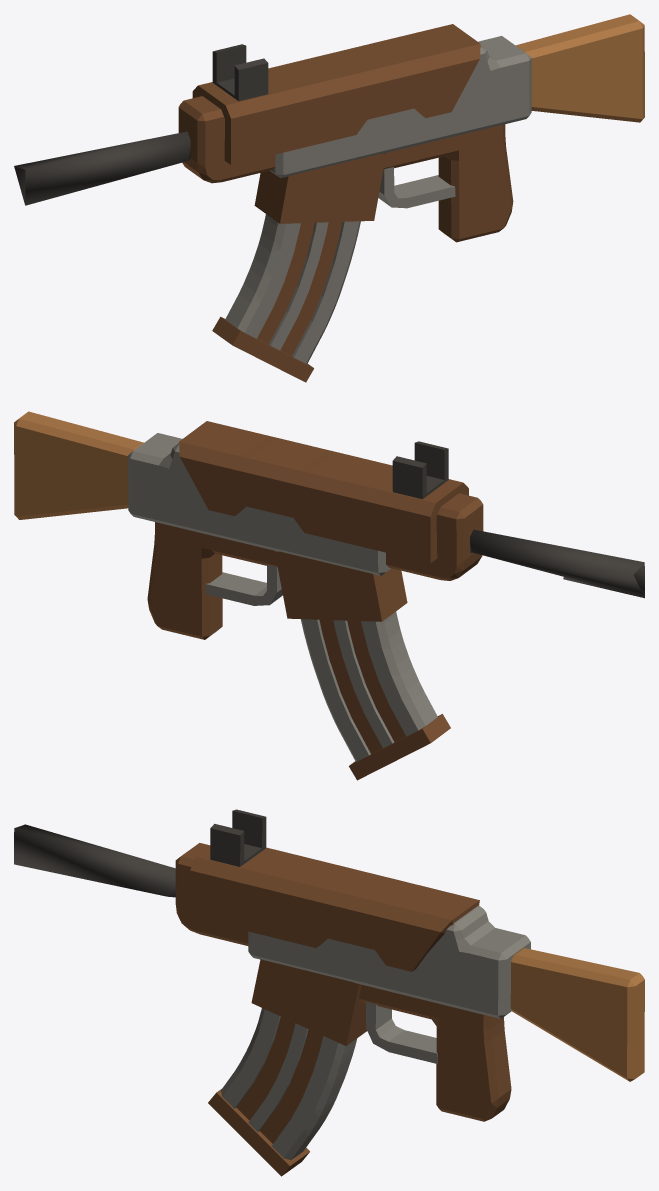
3 renders of one model, top to bottom at view 1: azimuth 30°, elevation 25°; view 2: azimuth 150°, elevation 25°; view 3: azimuth 330°, elevation 25°, orthographic.
Visible parts, largest first — view 1: part_0; view 2: part_0; view 3: part_0.
Boxes of the visible parts, bbox=[...] form: part_0: bbox=[14, 14, 644, 382]; part_0: bbox=[14, 411, 644, 780]; part_0: bbox=[14, 809, 644, 1176].
Size of the model in its own units: 1.42 by 0.7303 by 0.1537.
